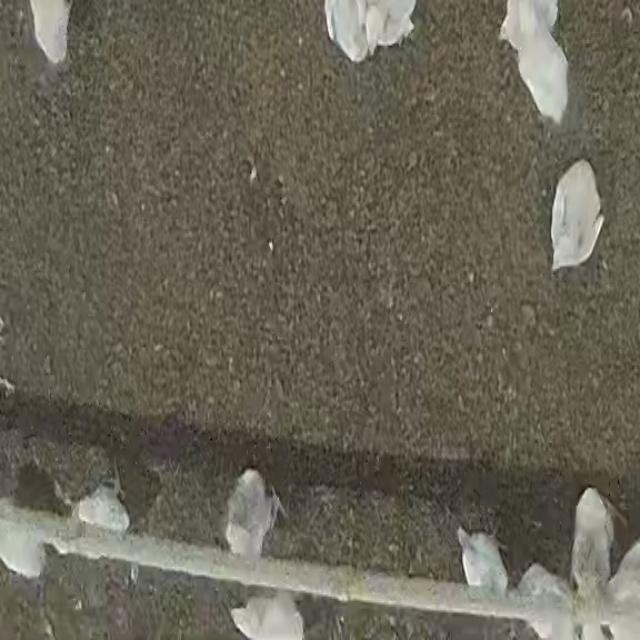chicken: (548, 158, 609, 276), (516, 0, 566, 125), (60, 491, 134, 569), (228, 470, 273, 566), (455, 522, 511, 599), (227, 594, 309, 640), (0, 493, 45, 576), (577, 487, 612, 590), (325, 0, 367, 64)
